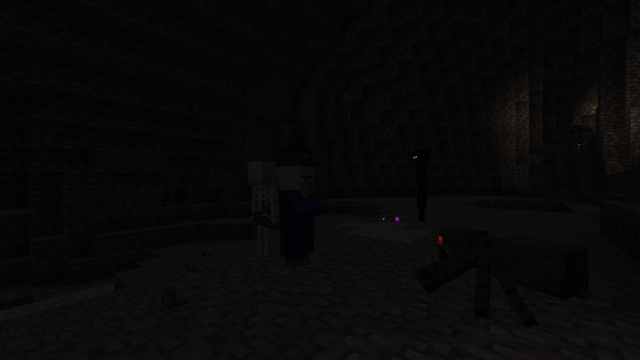araignees: (426, 218, 559, 328)
endermens: (411, 146, 431, 221)
sorcieres: (275, 161, 319, 272)
squelettes: (244, 161, 270, 260)
